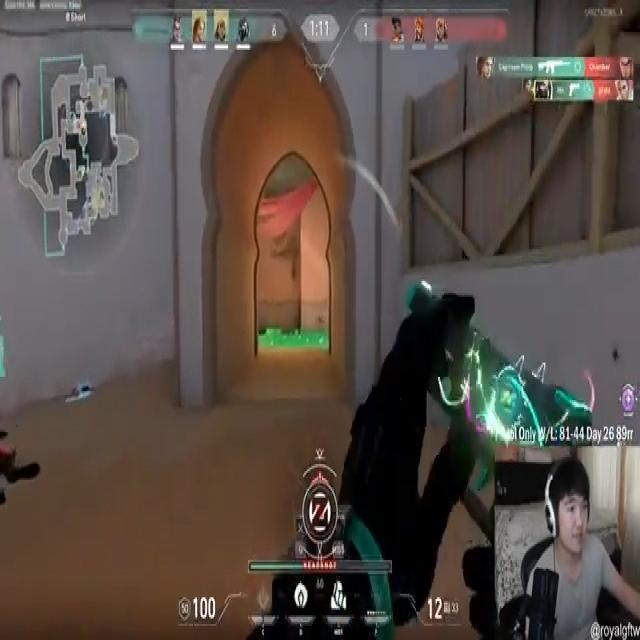gun: (68, 386, 92, 403)
molly: (260, 330, 331, 350)
